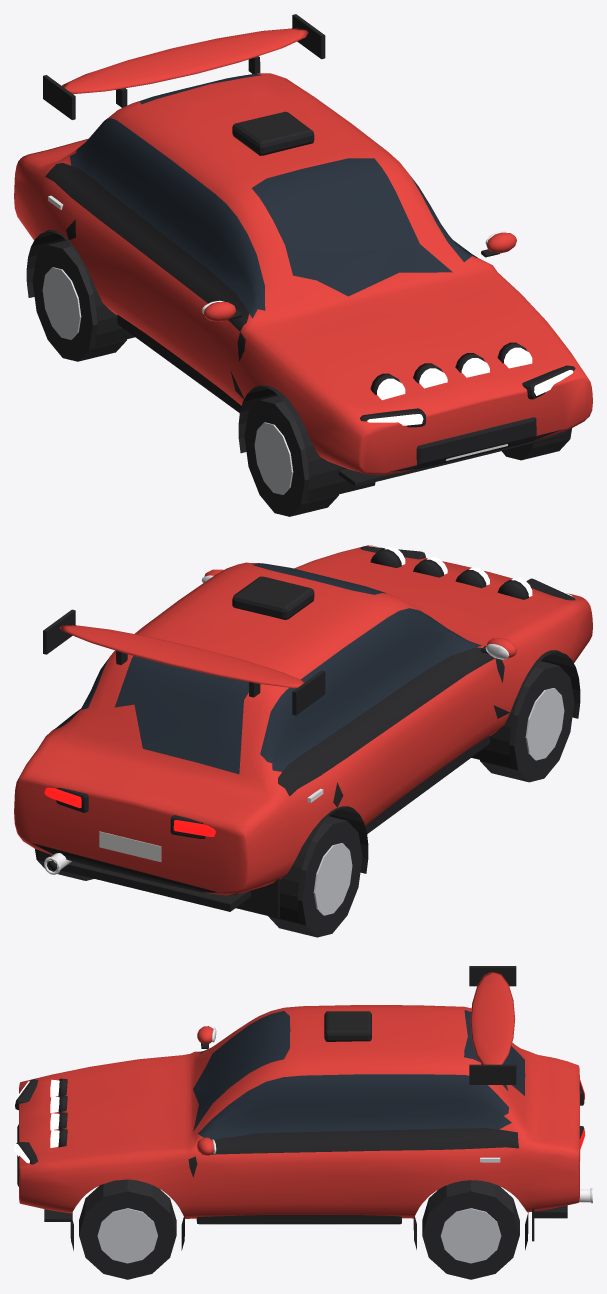
Rendered from ostwind_lod.glb.
3 renders of one model, top to bottom at view 1: azimuth 30°, elevation 25°; view 2: azimuth 150°, elevation 25°; view 3: azimuth 270°, elevation 25°, orthographic. The views are drawn at different scales.
Visible parts, largest first — view 1: body, wheel_rr, wheel_fr, wheel_fl; view 2: body, wheel_fr, wheel_rr; view 3: body, wheel_fl, wheel_rl.
Part boxes in pixels (box(x1,y1,x2,y2)): body: box(14, 14, 592, 501); wheel_rr: box(32, 240, 126, 361); wheel_fr: box(244, 395, 338, 516); wheel_fl: box(502, 428, 571, 460); body: box(14, 545, 592, 922); wheel_fr: box(480, 661, 574, 782); wheel_rr: box(268, 816, 362, 937); body: box(14, 966, 592, 1250); wheel_fl: box(79, 1179, 176, 1279); wheel_rl: box(422, 1180, 519, 1279).
Bounding box in the file's own units: 2.2 × 1.76 × 4.39.
